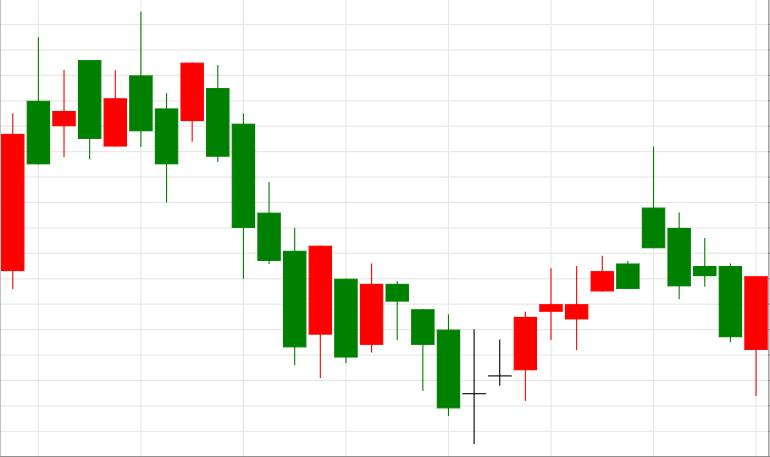shooting_star_fall: (462, 146, 665, 444)
